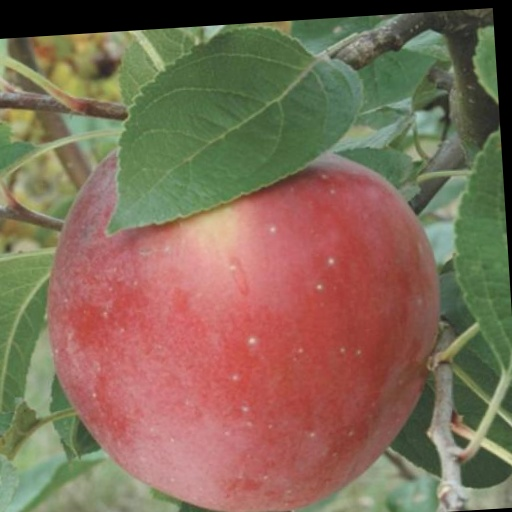fruit: (48, 154, 437, 512)
